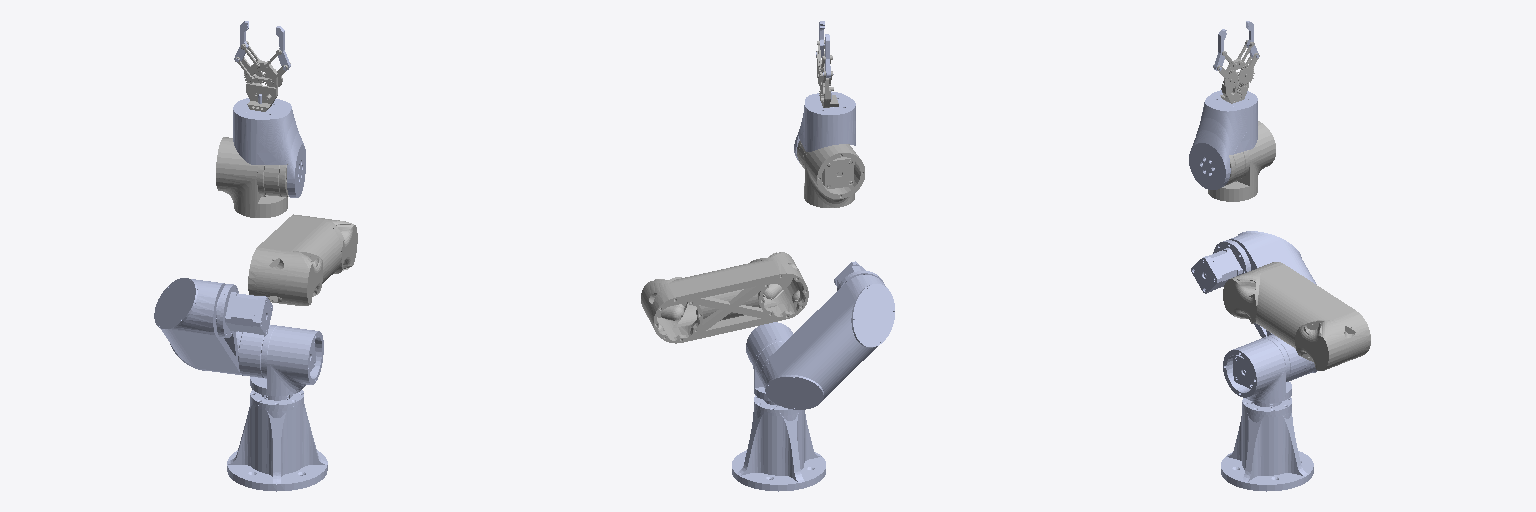
robot.urdf — robot:
<?xml version="1.0" encoding="utf-8"?>
<robot name="robot">

  <!-- ======================================================================== -->
  <!-- 1. CỐ ĐỊNH BASE VÀO WORLD                                                -->
  <!-- ======================================================================== -->
  <link name="world"/>
  <joint name="world_joint" type="fixed">
    <parent link="world"/>
    <child link="base_link"/>
    <origin xyz="0 0 0" rpy="0 0 0"/>
  </joint>

  <!-- ======================================================================== -->
  <!-- 2. CÁC LINK VÀ JOINT (Đã sửa đường dẫn package://my_arm_robot)           -->
  <!-- ======================================================================== -->
  
  <link name="base_link">
    <inertial>
      <origin xyz="-0.00011853 2.7498E-07 0.048515" rpy="0 0 0" />
      <mass value="0.467996" />
      <inertia ixx="0.0003618" ixy="6.1402E-11" ixz="-1.379E-07" iyy="0.0003598" iyz="3.0629E-10" izz="0.0005074" />
    </inertial>
    <visual>
      <origin xyz="0 0 0" rpy="0 0 0" />
      <geometry>
        <mesh filename="package://my_arm_robot/meshes/base_link.STL" />
      </geometry>
      <material name=""><color rgba="0.79 0.82 0.93 1" /></material>
    </visual>
    <collision>
      <origin xyz="0 0 0" rpy="0 0 0" />
      <geometry>
        <mesh filename="package://my_arm_robot/meshes/base_link.STL" />
      </geometry>
    </collision>
  </link>

  <link name="Link_1">
    <inertial>
      <origin xyz="-0.00044975 0.00048876 0.040226" rpy="0 0 0" />
      <mass value="0.35373" />
      <inertia ixx="0.00023009" ixy="-2.2014E-05" ixz="-1.7013E-05" iyy="0.00023377" iyz="1.8494E-05" izz="0.00018361" />
    </inertial>
    <visual>
      <origin xyz="0 0 0" rpy="0 0 0" />
      <geometry>
        <mesh filename="package://my_arm_robot/meshes/Link_1.STL" />
      </geometry>
      <material name=""><color rgba="0.79 0.82 0.93 1" /></material>
    </visual>
    <collision>
      <origin xyz="0 0 0" rpy="0 0 0" />
      <geometry>
        <mesh filename="package://my_arm_robot/meshes/Link_1.STL" />
      </geometry>
    </collision>
  </link>

  <joint name="Link_1_joint" type="revolute">
    <origin xyz="0 0 0.1214" rpy="0 0 0" />
    <parent link="base_link" />
    <child link="Link_1" />
    <axis xyz="0 0 1" />
    <limit lower="-1.57" upper="1.57" effort="100" velocity="1" />
  </joint>

  <link name="Link_2">
    <inertial>
      <origin xyz="0.055 2.8797E-13 0.014552" rpy="0 0 0" />
      <mass value="0.32748" />
      <inertia ixx="0.00014536" ixy="9.7885E-20" ixz="-4.9313E-20" iyy="0.0007689" iyz="1.0029E-18" izz="0.0008667" />
    </inertial>
    <visual>
      <origin xyz="0 0 0" rpy="0 0 0" />
      <geometry>
        <mesh filename="package://my_arm_robot/meshes/Link_2.STL" />
      </geometry>
      <material name=""><color rgba="0.79 0.82 0.93 1" /></material>
    </visual>
    <collision>
      <origin xyz="0 0 0" rpy="0 0 0" />
      <geometry>
        <mesh filename="package://my_arm_robot/meshes/Link_2.STL" />
      </geometry>
    </collision>
  </link>

  <joint name="Link_2_joint" type="revolute">
    <origin xyz="-0.037236 0.040478 0.046" rpy="1.5708 -1.5643 -2.3979" />
    <parent link="Link_1" />
    <child link="Link_2" />
    <axis xyz="0 0 1" />
    <limit lower="-1.57" upper="1.57" effort="100" velocity="1" />
  </joint>

  <link name="Link_3">
    <inertial>
      <origin xyz="-0.034199 0.038276 0.05699" rpy="0 0 0" />
      <mass value="0.64467" />
      <inertia ixx="0.00047123" ixy="0.00016492" ixz="-6.6516E-05" iyy="0.00057546" iyz="5.7735E-05" izz="0.00068737" />
    </inertial>
    <visual>
      <origin xyz="0 0 0" rpy="0 0 0" />
      <geometry>
        <mesh filename="package://my_arm_robot/meshes/Link_3.STL" />
      </geometry>
      <material name=""><color rgba="0.75 0.75 0.75 1" /></material>
    </visual>
    <collision>
      <origin xyz="0 0 0" rpy="0 0 0" />
      <geometry>
        <mesh filename="package://my_arm_robot/meshes/Link_3.STL" />
      </geometry>
    </collision>
  </link>

  <joint name="Link_3_joint" type="revolute">
    <origin xyz="0.11 0 0" rpy="3.1416 0 1.5773" />
    <parent link="Link_2" />
    <child link="Link_3" />
    <axis xyz="0 0 -1" />
    <limit lower="-1.57" upper="1.57" effort="100" velocity="1" />
  </joint>

  <link name="Link_4">
    <inertial>
      <origin xyz="-0.00034838 0.004039 0.044951" rpy="0 0 0" />
      <mass value="0.35757" />
      <inertia ixx="0.0002534" ixy="-2.5899E-06" ixz="3.5514E-06" iyy="0.00028321" iyz="-4.1184E-05" izz="0.00020218" />
    </inertial>
    <visual>
      <origin xyz="0 0 0" rpy="0 0 0" />
      <geometry>
        <mesh filename="package://my_arm_robot/meshes/Link_4.STL" />
      </geometry>
      <material name=""><color rgba="0.75 0.75 0.75 1" /></material>
    </visual>
    <collision>
      <origin xyz="0 0 0" rpy="0 0 0" />
      <geometry>
        <mesh filename="package://my_arm_robot/meshes/Link_4.STL" />
      </geometry>
    </collision>
  </link>

  <joint name="Link_4_joint" type="revolute">
    <origin xyz="-0.070463 0.12975 0.055" rpy="-1.5708 0 0.003562" />
    <parent link="Link_3" />
    <child link="Link_4" />
    <axis xyz="0 0 -1" />
    <limit lower="-1.57" upper="1.57" effort="100" velocity="1" />
  </joint>

  <link name="Link_5">
    <inertial>
      <origin xyz="-0.00035411 0.050355 -0.025313" rpy="0 0 0" />
      <mass value="0.21575" />
      <inertia ixx="0.00028449" ixy="4.9247E-07" ixz="-5.2481E-07" iyy="0.00021388" iyz="7.6133E-05" izz="0.00023773" />
    </inertial>
    <visual>
      <origin xyz="0 0 0" rpy="0 0 0" />
      <geometry>
        <mesh filename="package://my_arm_robot/meshes/Link_5.STL" />
      </geometry>
      <material name=""><color rgba="0.79 0.82 0.93 1" /></material>
    </visual>
    <collision>
      <origin xyz="0 0 0" rpy="0 0 0" />
      <geometry>
        <mesh filename="package://my_arm_robot/meshes/Link_5.STL" />
      </geometry>
    </collision>
  </link>

  <joint name="Link_5_joint" type="revolute">
    <origin xyz="0.003472 -0.040251 0.056" rpy="1.5708 0.0035488 0.086047" />
    <parent link="Link_4" />
    <child link="Link_5" />
    <axis xyz="0 0 -1" />
    <limit lower="-1.57" upper="1.57" effort="100" velocity="1" />
  </joint>

  <link name="Link_6">
    <inertial>
      <origin xyz="0.0038357 0.0036673 0.031128" rpy="0 0 0" />
      <mass value="0.025118" />
      <inertia ixx="5.3242E-06" ixy="1.0647E-06" ixz="-4.7551E-08" iyy="4.8673E-06" iyz="-8.8596E-08" izz="2.4979E-06" />
    </inertial>
    <visual>
      <origin xyz="0 0 0" rpy="0 0 0" />
      <geometry>
        <mesh filename="package://my_arm_robot/meshes/Link_6.STL" />
      </geometry>
      <material name=""><color rgba="0.75 0.75 0.75 1" /></material>
    </visual>
    <collision>
      <origin xyz="0 0 0" rpy="0 0 0" />
      <geometry>
        <mesh filename="package://my_arm_robot/meshes/Link_6.STL" />
      </geometry>
    </collision>
  </link>

  <joint name="Link_6_joint" type="revolute">
    <origin xyz="-0.00059549 0.085198 -0.041" rpy="-1.5708 -0.82976 0.0069894" />
    <parent link="Link_5" />
    <child link="Link_6" />
    <axis xyz="0 0 1" />
    <limit lower="-1.57" upper="1.57" effort="100" velocity="1" />
  </joint>

  <!-- MỚI: GRIPPER RIGHT -->
  <link name="gripper_right">
    <inertial>
      <origin xyz="0.022391 -0.0035934 -0.007" rpy="0 0 0" />
      <mass value="0.0029678" />
      <inertia ixx="7.8507E-08" ixy="1.9967E-07" ixz="-3.3087E-23" iyy="8.4605E-07" iyz="-7.9409E-23" izz="9.1493E-07" />
    </inertial>
    <visual>
      <origin xyz="0 0 0" rpy="0 0 0" />
      <geometry>
        <mesh filename="package://my_arm_robot/meshes/gripper_right.STL" />
      </geometry>
      <material name=""><color rgba="0.79 0.82 0.93 1" /></material>
    </visual>
    <collision>
      <origin xyz="0 0 0" rpy="0 0 0" />
      <geometry>
        <mesh filename="package://my_arm_robot/meshes/gripper_right.STL" />
      </geometry>
    </collision>
  </link>

  <joint name="gripper_right_joint" type="revolute">
    <origin xyz="-0.008556 0.035448 0.061693" rpy="-1.5708 -1.1863 -0.89493" />
    <parent link="Link_6" />
    <child link="gripper_right" />
    <axis xyz="0 0 1" />
    <limit lower="-1.57" upper="1.57" effort="20" velocity="1" />
  </joint>

  <!-- MỚI: GRIPPER LEFT -->
  <link name="gripper_left">
    <inertial>
      <origin xyz="0.022391 0.0035934 -0.007" rpy="0 0 0" />
      <mass value="0.0029678" />
      <inertia ixx="7.8507E-08" ixy="-1.9967E-07" ixz="3.9705E-23" iyy="8.4605E-07" iyz="2.647E-23" izz="9.1493E-07" />
    </inertial>
    <visual>
      <origin xyz="0 0 0" rpy="0 0 0" />
      <geometry>
        <mesh filename="package://my_arm_robot/meshes/gripper_left.STL" />
      </geometry>
      <material name=""><color rgba="0.79 0.82 0.93 1" /></material>
    </visual>
    <collision>
      <origin xyz="0 0 0" rpy="0 0 0" />
      <geometry>
        <mesh filename="package://my_arm_robot/meshes/gripper_left.STL" />
      </geometry>
    </collision>
  </link>

  <joint name="gripper_left_joint" type="revolute">
    <origin xyz="0.032692 -0.015993 0.061756" rpy="1.5708 -1.1863 2.2467" />
    <parent link="Link_6" />
    <child link="gripper_left" />
    <axis xyz="0 0 1" />
    <limit lower="-1.57" upper="1.57" effort="20" velocity="1" />
    <!-- Chú ý: Left bắt chước Right -->
    <mimic joint="gripper_right_joint" multiplier="-1" offset="0" />
  </joint>
  <link name="tool_center_point" />

  <joint name="tcp_joint" type="fixed">
    <parent link="Link_6"/>
    <child link="tool_center_point"/>
    <!-- QUAN TRỌNG: Cần chỉnh xyz và rpy ở đây -->
    <!-- Giả sử kẹp dài khoảng 15cm (0.15m) dọc theo trục Z của Link_6 -->
    <!-- Bạn cần đo thực tế từ mặt bích Link_6 đến điểm giữa 2 đầu ngón tay -->
    <origin xyz="0 0 0.15" rpy="0 0 0"/> 
  </joint>
  <!-- ======================================================================== -->
  <!-- 3. ROS2 CONTROL (Cập nhật tên khớp Kẹp Mới)                              -->
  <!-- ======================================================================== -->
  <ros2_control name="RobotSystem" type="system">
    <hardware>
      <plugin>mock_components/GenericSystem</plugin>
      <param name="calculate_dynamics">true</param>
    </hardware>

    <joint name="Link_1_joint"><command_interface name="velocity"/><state_interface name="position"/><state_interface name="velocity"/></joint>
    <joint name="Link_2_joint"><command_interface name="velocity"/><state_interface name="position"/><state_interface name="velocity"/></joint>
    <joint name="Link_3_joint"><command_interface name="velocity"/><state_interface name="position"/><state_interface name="velocity"/></joint>
    <joint name="Link_4_joint"><command_interface name="velocity"/><state_interface name="position"/><state_interface name="velocity"/></joint>
    <joint name="Link_5_joint"><command_interface name="velocity"/><state_interface name="position"/><state_interface name="velocity"/></joint>
    <joint name="Link_6_joint"><command_interface name="velocity"/><state_interface name="position"/><state_interface name="velocity"/></joint>
    
    <!-- CẬP NHẬT TÊN KHỚP KẸP CHÍNH -->
    <joint name="gripper_right_joint">
      <command_interface name="position"/>
      <state_interface name="position"/>
      <state_interface name="velocity"/>
    </joint>
    
  </ros2_control>

</robot>			

--- What the picture shows (computed from the rendered views, not written in the file) ---
The picture shows the robot from 3 angles, left to right: view 1: azimuth 30°, elevation 25°; view 2: azimuth 150°, elevation 25°; view 3: azimuth 270°, elevation 25°; orthographic projection.
Model robot with 11 links and 10 joints (8 revolute, 2 fixed), rooted at world, posed all joints at 0.
Links seen in each view (by area): view 1: Link_2, base_link, Link_3, Link_1, Link_5, Link_4, Link_6; view 2: Link_2, Link_3, base_link, Link_4, Link_5, Link_1, Link_6; view 3: Link_3, base_link, Link_5, Link_1, Link_2, Link_4, Link_6.
Link boxes in pixels (left/top/right/bottom): Link_2: left=154, top=278, right=272, bottom=374; base_link: left=227, top=390, right=327, bottom=491; Link_3: left=248, top=214, right=357, bottom=305; Link_1: left=234, top=325, right=323, bottom=396; Link_5: left=233, top=94, right=305, bottom=197; Link_4: left=216, top=137, right=288, bottom=217; Link_6: left=235, top=41, right=290, bottom=111; Link_2: left=762, top=261, right=894, bottom=409; Link_3: left=641, top=252, right=808, bottom=343; base_link: left=732, top=395, right=825, bottom=491; Link_4: left=797, top=141, right=864, bottom=207; Link_5: left=794, top=91, right=855, bottom=162; Link_1: left=746, top=322, right=792, bottom=401; Link_6: left=816, top=40, right=838, bottom=107; Link_3: left=1223, top=262, right=1370, bottom=370; base_link: left=1221, top=397, right=1313, bottom=491; Link_5: left=1189, top=90, right=1257, bottom=189; Link_1: left=1223, top=334, right=1311, bottom=403; Link_2: left=1191, top=231, right=1317, bottom=376; Link_4: left=1208, top=121, right=1275, bottom=201; Link_6: left=1213, top=40, right=1259, bottom=103.
Bounding box of the posed robot: 0.3395 × 0.2543 × 0.6646 m (x, y, z).
9 mesh visuals loaded from 9 distinct referenced files (9 binary STL).
